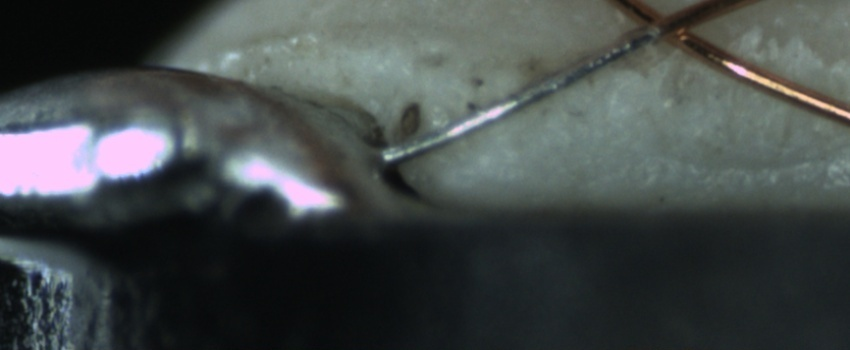CL: (623, 2, 716, 53)
TS: (383, 26, 659, 164)
